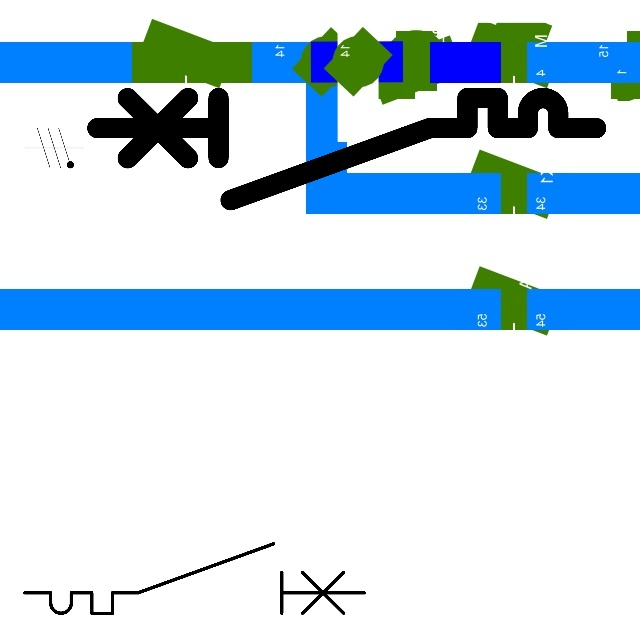interruptor_termomagnetico: (84, 85, 609, 213), (16, 535, 373, 622)
